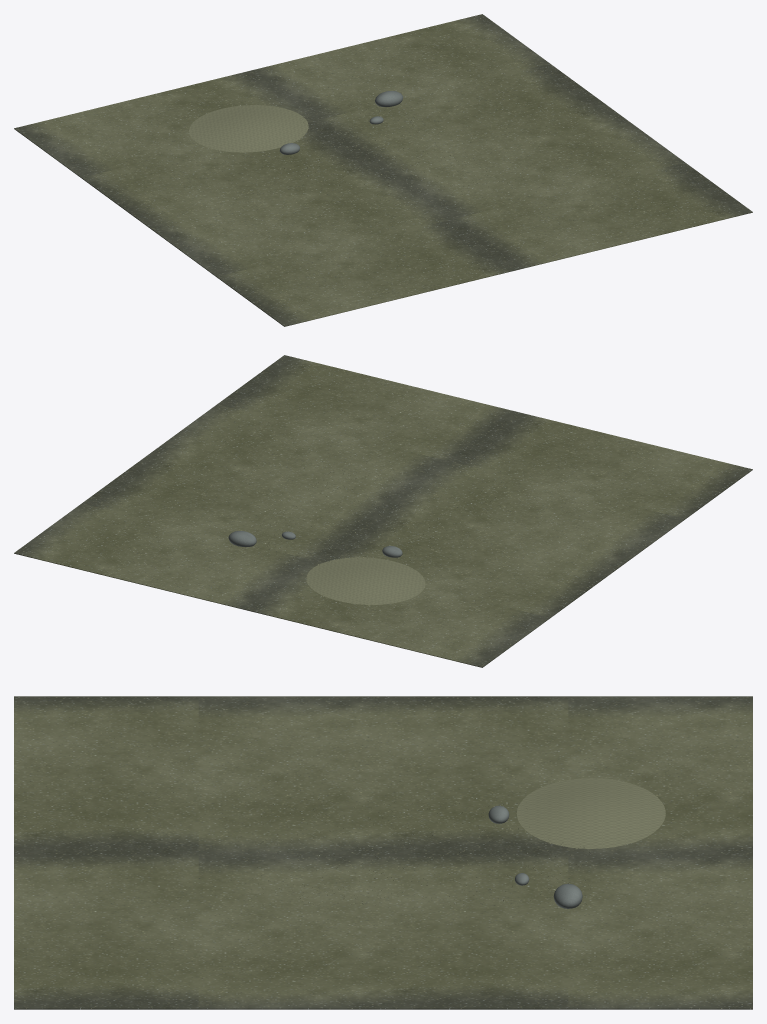
File: tundra-v1.glb
The picture shows the model from 3 angles, top to bottom: view 1: azimuth 30°, elevation 25°; view 2: azimuth 150°, elevation 25°; view 3: azimuth 270°, elevation 25°; orthographic projection. The views are drawn at different scales.
Visible parts, largest first — view 1: Earth gravel and wheel ruts, Distant terrain rise, Verge boulder; view 2: Earth gravel and wheel ruts, Distant terrain rise, Verge boulder; view 3: Earth gravel and wheel ruts, Distant terrain rise, Verge boulder, Grass blades.
Part boxes in pixels (x1=…): Earth gravel and wheel ruts: x1=14, y1=14, x2=752, y2=326; Distant terrain rise: x1=189, y1=105, x2=308, y2=152; Verge boulder: x1=279, y1=91, x2=403, y2=154; Earth gravel and wheel ruts: x1=14, y1=355, x2=752, y2=667; Distant terrain rise: x1=306, y1=557, x2=425, y2=604; Verge boulder: x1=228, y1=531, x2=402, y2=557; Earth gravel and wheel ruts: x1=14, y1=696, x2=752, y2=1009; Distant terrain rise: x1=517, y1=778, x2=665, y2=848; Verge boulder: x1=488, y1=805, x2=582, y2=908; Grass blades: x1=256, y1=798, x2=590, y2=905.
Size of the model in its own units: 64 by 1.8 by 64.
Materials: 3 (3 with a texture image).
